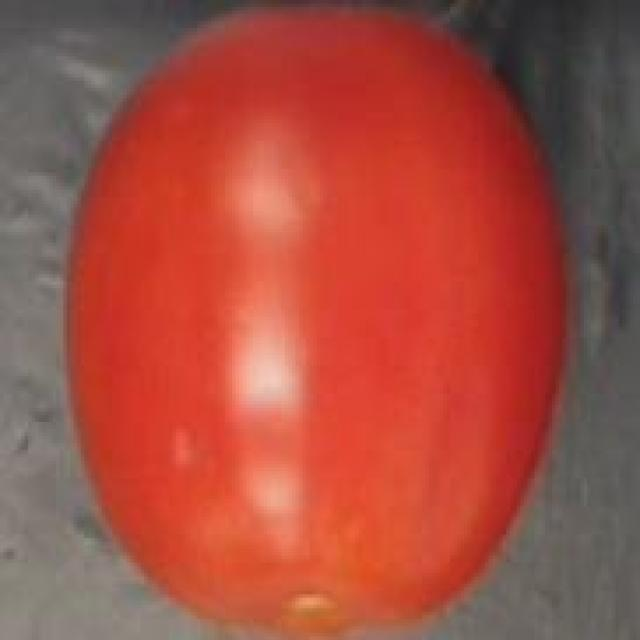ripe tomato: (59, 0, 576, 640)
